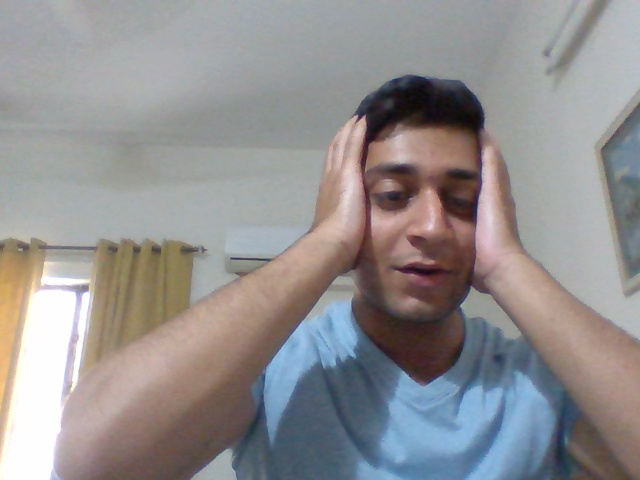surprised: (365, 140, 479, 323)
